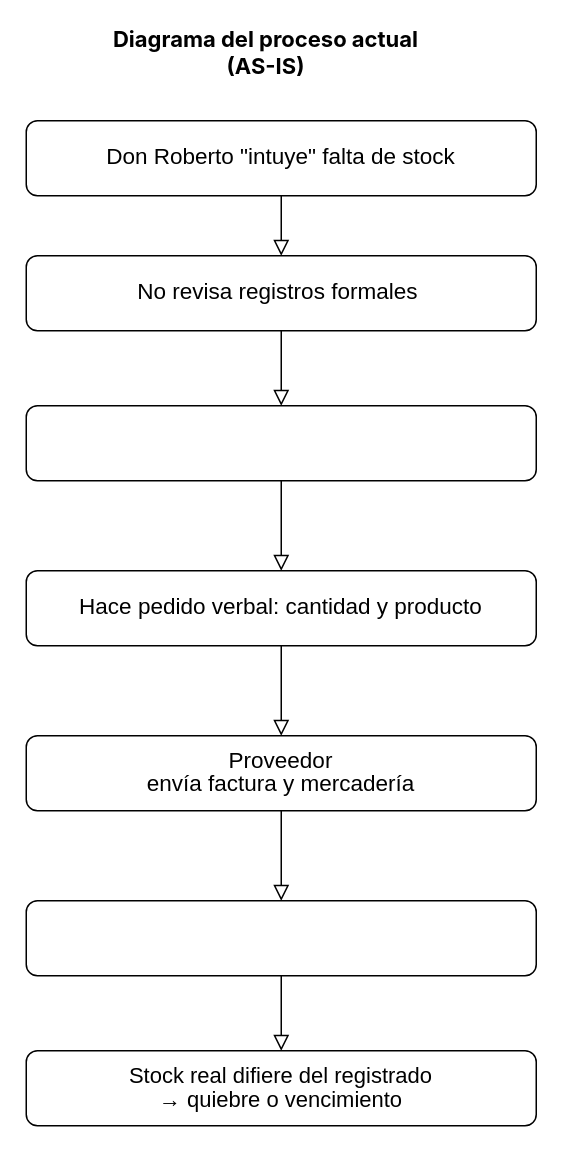
This 563x1152 diagram has some shape labels left out. Each missing label, with the centre of its shape:
"Empleado recibe y anota a mano en ficha" goes at point (280, 937).
"Llama por teléfono a proveedor" goes at point (280, 442).
